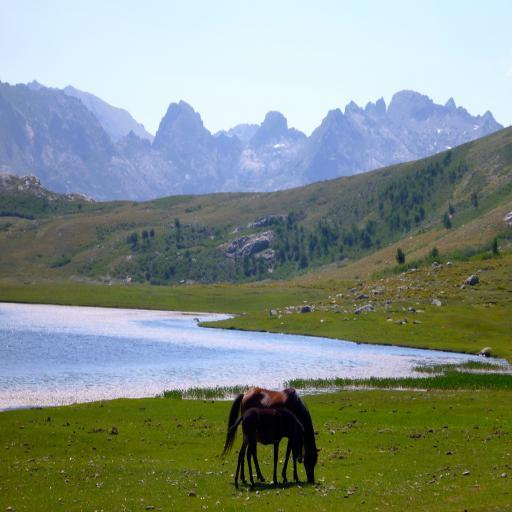horse: (220, 385, 322, 486), (222, 406, 305, 488)
